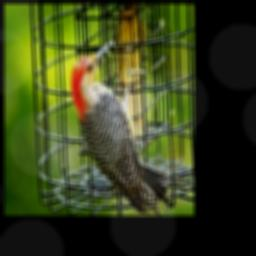Woodpecker: (70, 39, 168, 214)
